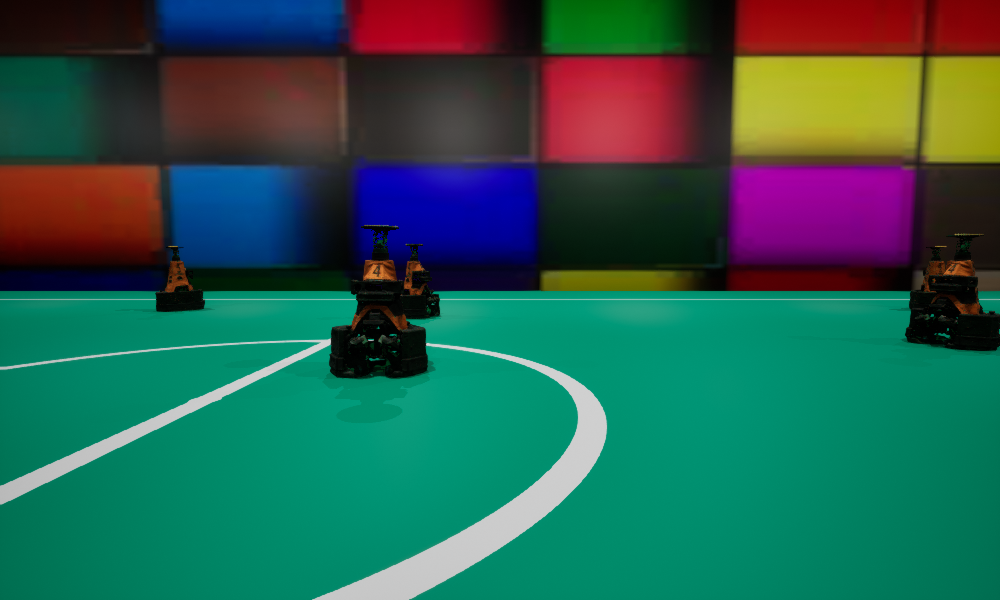0 orange robot TechUnited: (329, 225, 427, 377), (905, 234, 999, 349), (155, 246, 204, 311), (400, 244, 439, 318), (909, 246, 946, 308)
